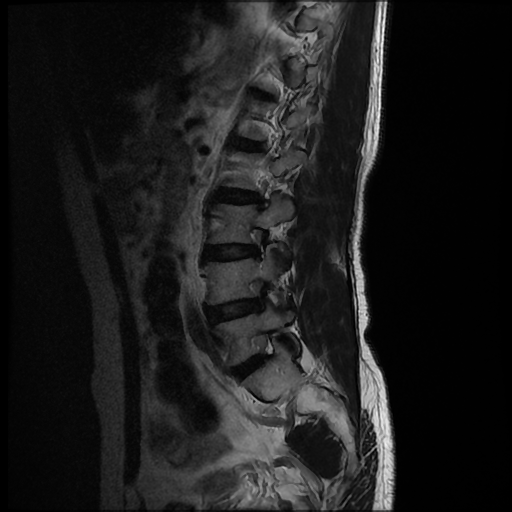LFS0: (244, 324, 280, 372)
LFS1: (240, 219, 280, 271)
